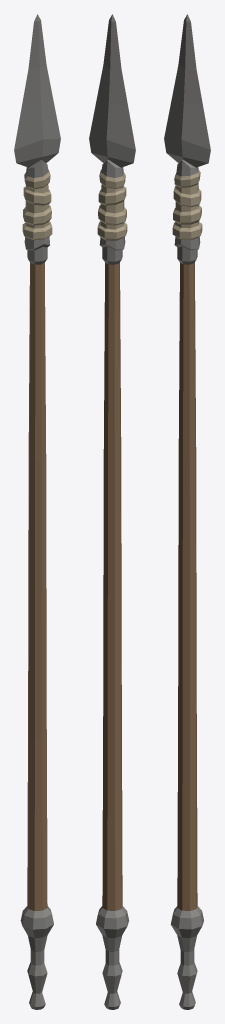
Rendered from SM_pwe_rome_spear_01a.fbx.
3 views of the same model, side by side, from view 1: azimuth 30°, elevation 25°; view 2: azimuth 150°, elevation 25°; view 3: azimuth 330°, elevation 25° (orthographic).
Parts seen in each view (by area): view 1: SM_pwe_rome_spear_01a; view 2: SM_pwe_rome_spear_01a; view 3: SM_pwe_rome_spear_01a.
Boxes of the visible parts, x1,y1,x2,y2 form: SM_pwe_rome_spear_01a: (14,14,60,1009); SM_pwe_rome_spear_01a: (89,14,135,1009); SM_pwe_rome_spear_01a: (164,14,210,1009).
Bounding box in the file's own units: 12.68 × 257 × 8.11.
